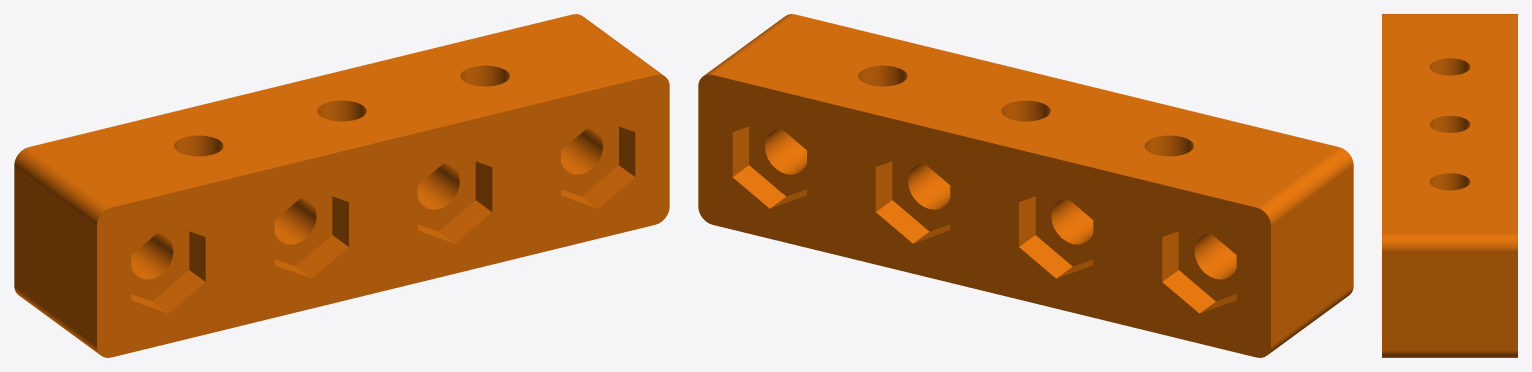
Rendered from I4_orange.glb.
3 views of the same model, side by side, from view 1: azimuth 30°, elevation 25°; view 2: azimuth 150°, elevation 25°; view 3: azimuth 270°, elevation 25° (orthographic). The views are drawn at different scales.
Visible parts, largest first — view 1: I4; view 2: I4; view 3: I4.
Boxes of the visible parts, x1,y1,x2,y2 form: I4: (14,14,669,357); I4: (698,14,1353,357); I4: (1382,14,1517,357).
Bounding box in the file's own units: 0.04 × 0.01 × 0.01.
